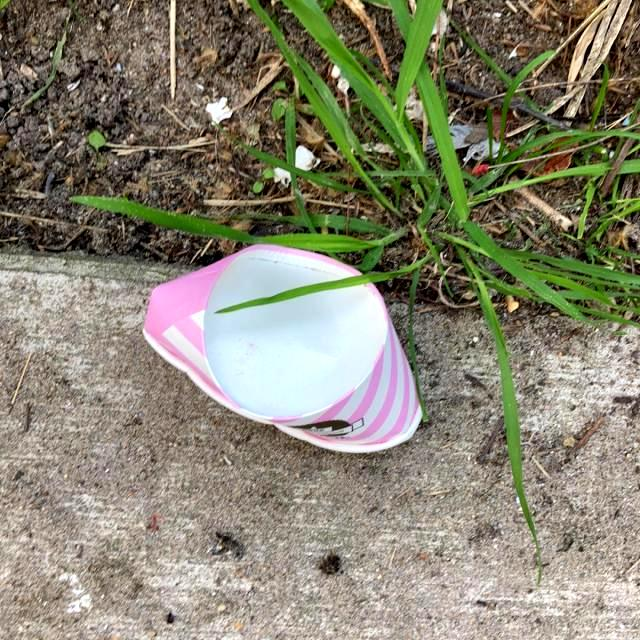Paper: (136, 238, 424, 458)
